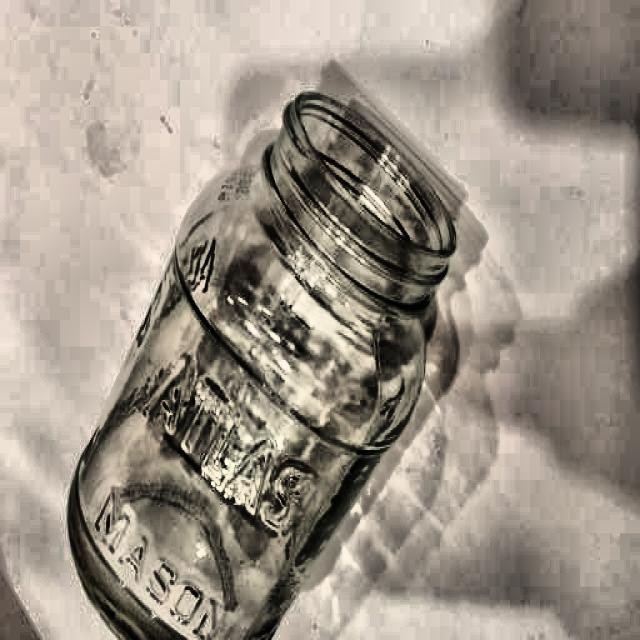glass: (68, 92, 456, 630)
